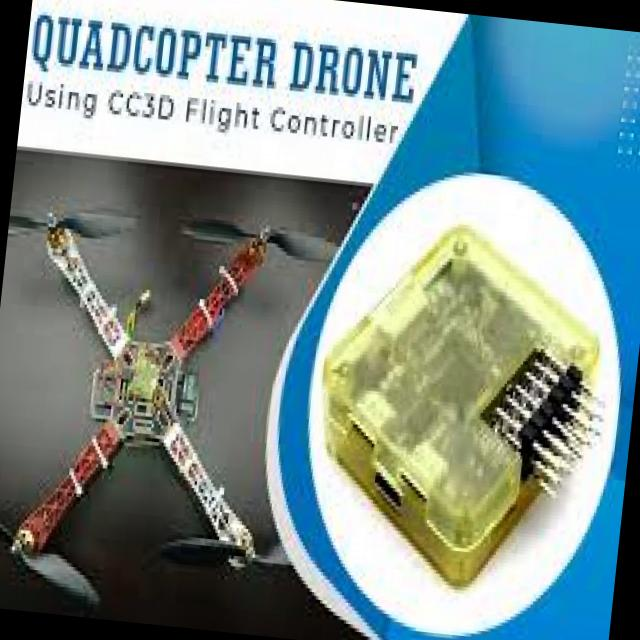drone: (0, 177, 341, 639)
